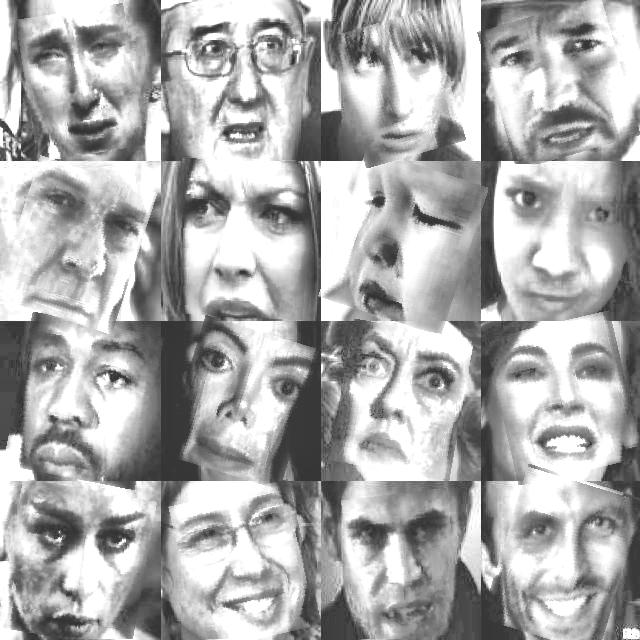angry: (4, 162, 147, 326), (3, 483, 150, 640), (486, 4, 632, 162), (176, 160, 309, 318), (497, 164, 625, 316), (345, 491, 460, 640)
fear: (335, 323, 469, 477), (171, 3, 301, 159), (338, 14, 458, 163)
happy: (491, 471, 634, 640), (493, 316, 635, 479), (175, 485, 313, 640)
neutral: (173, 323, 313, 483)
sad: (329, 156, 478, 328), (10, 318, 158, 484), (21, 7, 140, 159)
